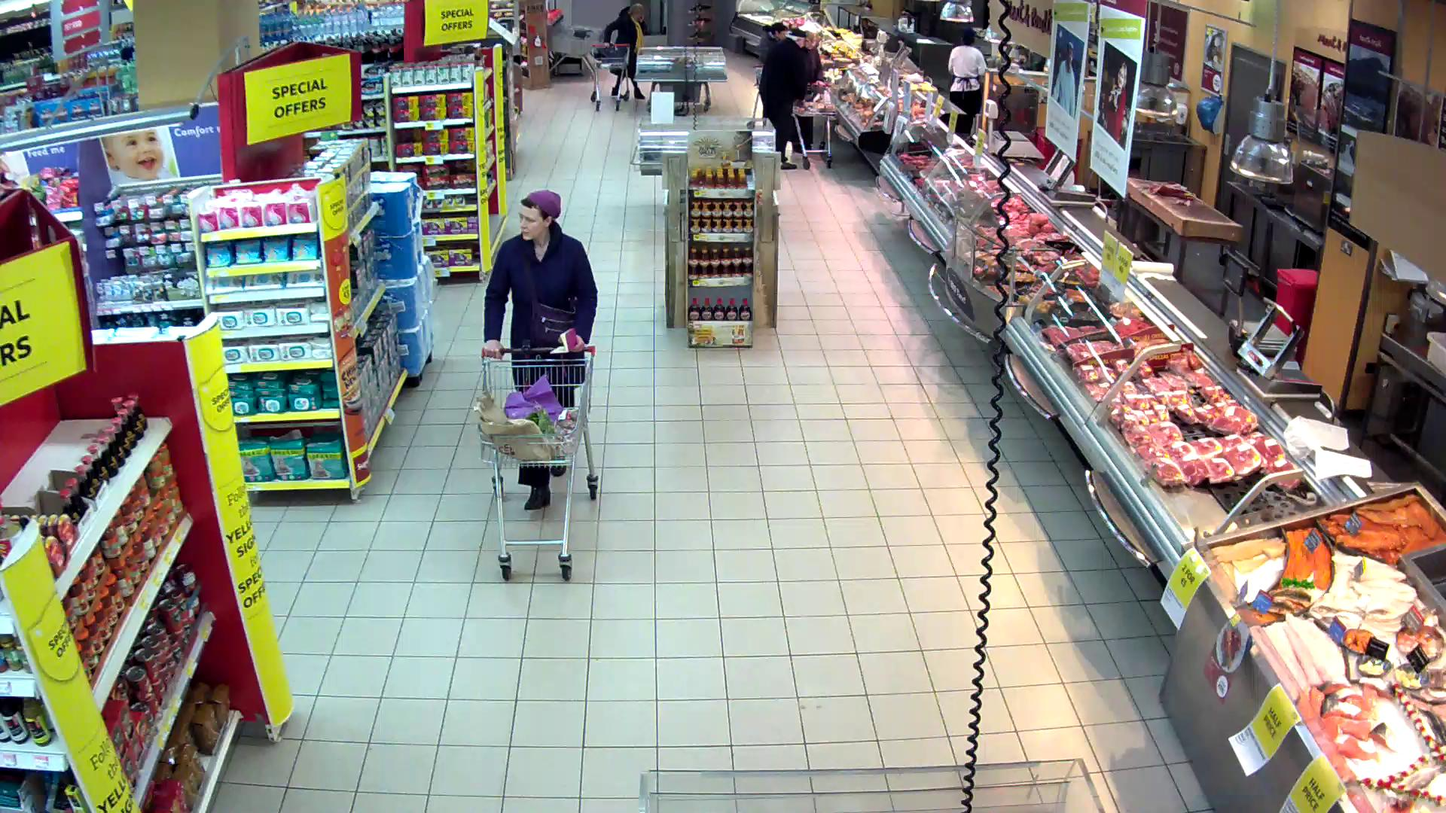backpack-or-handbag: (533, 300, 578, 343)
filled-trolly: (480, 342, 597, 581)
person: (483, 191, 599, 511)
person-with-basket-trolly-and-backpack-handbag: (478, 191, 599, 580)
